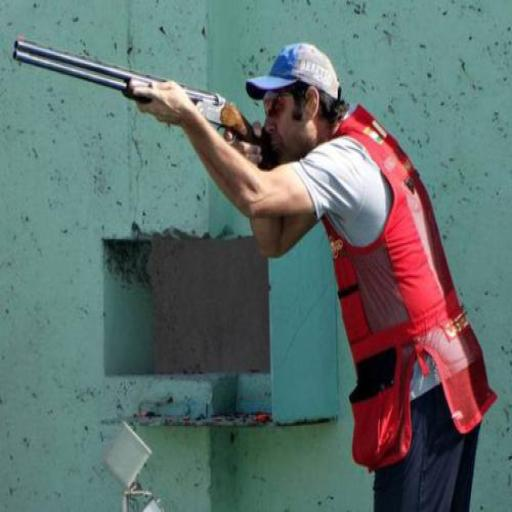shooting: (123, 40, 501, 510)
